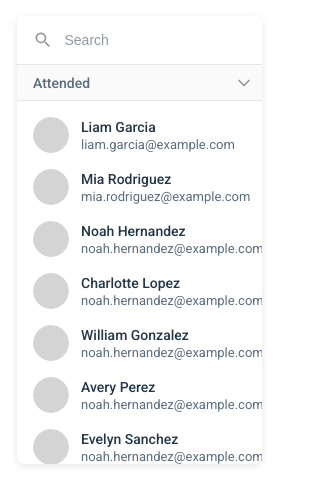
Test case: SearchableList Component › handles no search results
The image size is (320, 484).
Type "Nonexistent" into the field with placeholder "Search". click: (139, 40)
box: [16, 16, 262, 64]
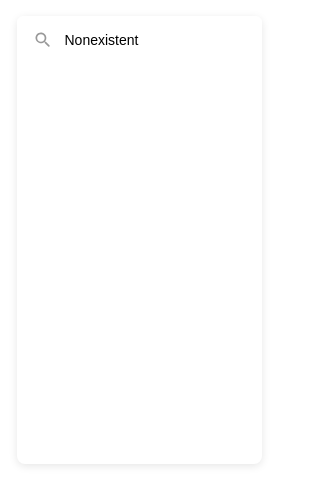
Check: the text "Liam Garcia" is gone
Check: the text "Mia Rodriguez" is gone
